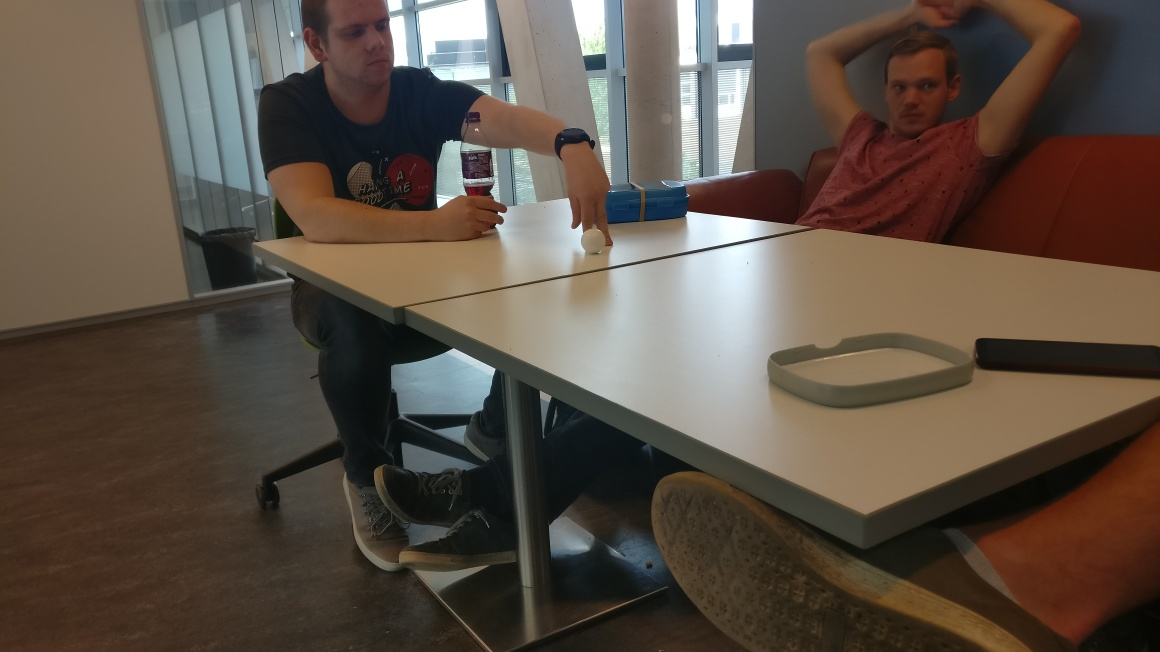egg: (580, 228, 606, 254)
